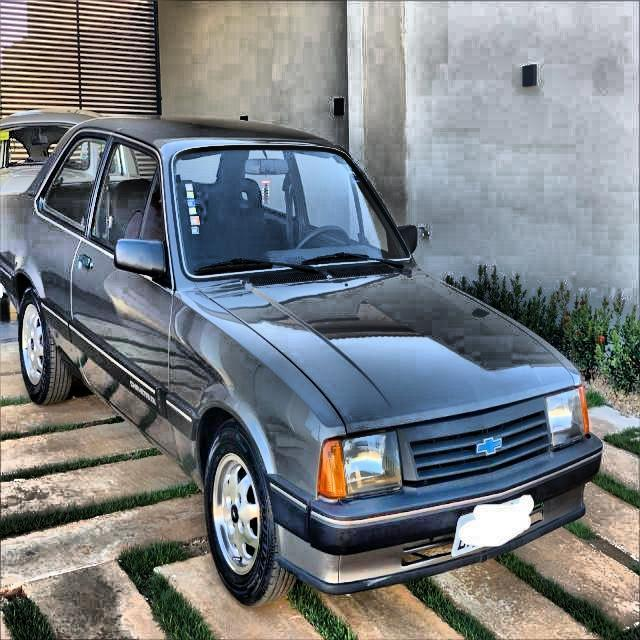carro: (0, 122, 603, 610)
